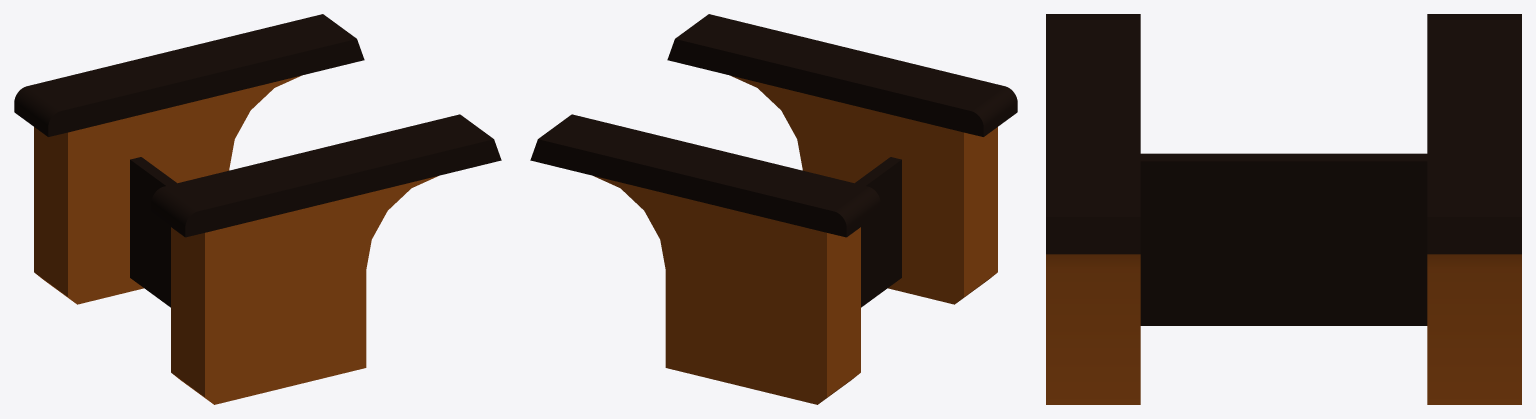
File: counter door.obj
3 renders of one model, left to right at view 1: azimuth 30°, elevation 25°; view 2: azimuth 150°, elevation 25°; view 3: azimuth 270°, elevation 25°, orthographic. The views are drawn at different scales.
Visible parts, largest first — view 1: counter_door_Cube.003, door_left_Cube.004; view 2: counter_door_Cube.003, door_right_Cube.005; view 3: counter_door_Cube.003, door_left_Cube.004, door_right_Cube.005.
Boxes of the visible parts, bbox=[...] form: counter_door_Cube.003: bbox=[14, 14, 501, 404]; door_left_Cube.004: bbox=[130, 157, 176, 307]; counter_door_Cube.003: bbox=[530, 14, 1017, 404]; door_right_Cube.005: bbox=[855, 157, 901, 307]; counter_door_Cube.003: bbox=[1046, 14, 1521, 404]; door_left_Cube.004: bbox=[1283, 153, 1427, 325]; door_right_Cube.005: bbox=[1140, 153, 1284, 325].
Size of the model in its own units: 2.13 by 1.27 by 2.
